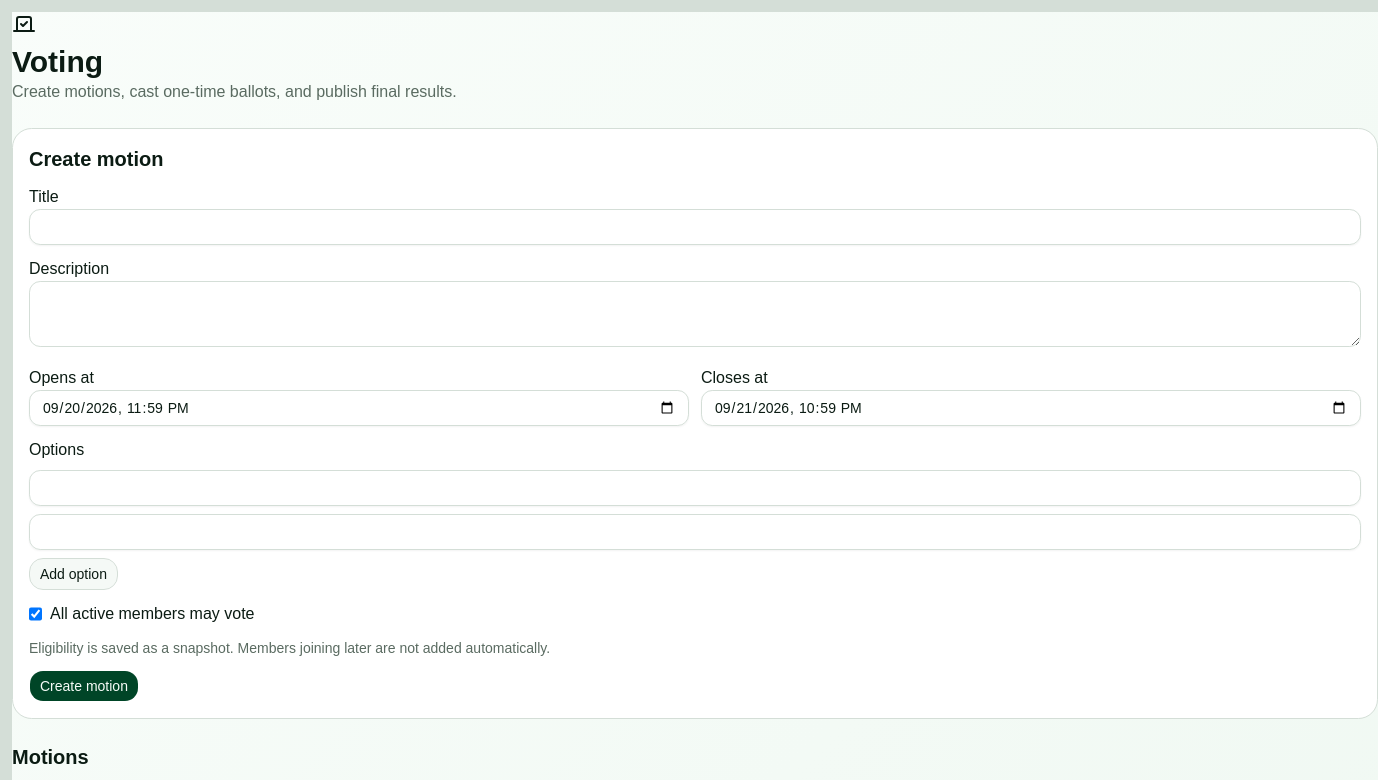
Test case: keeps entered data on a save failure
In the field labelled "Title": (695, 227) [29,209,1361,245], type "New motion"
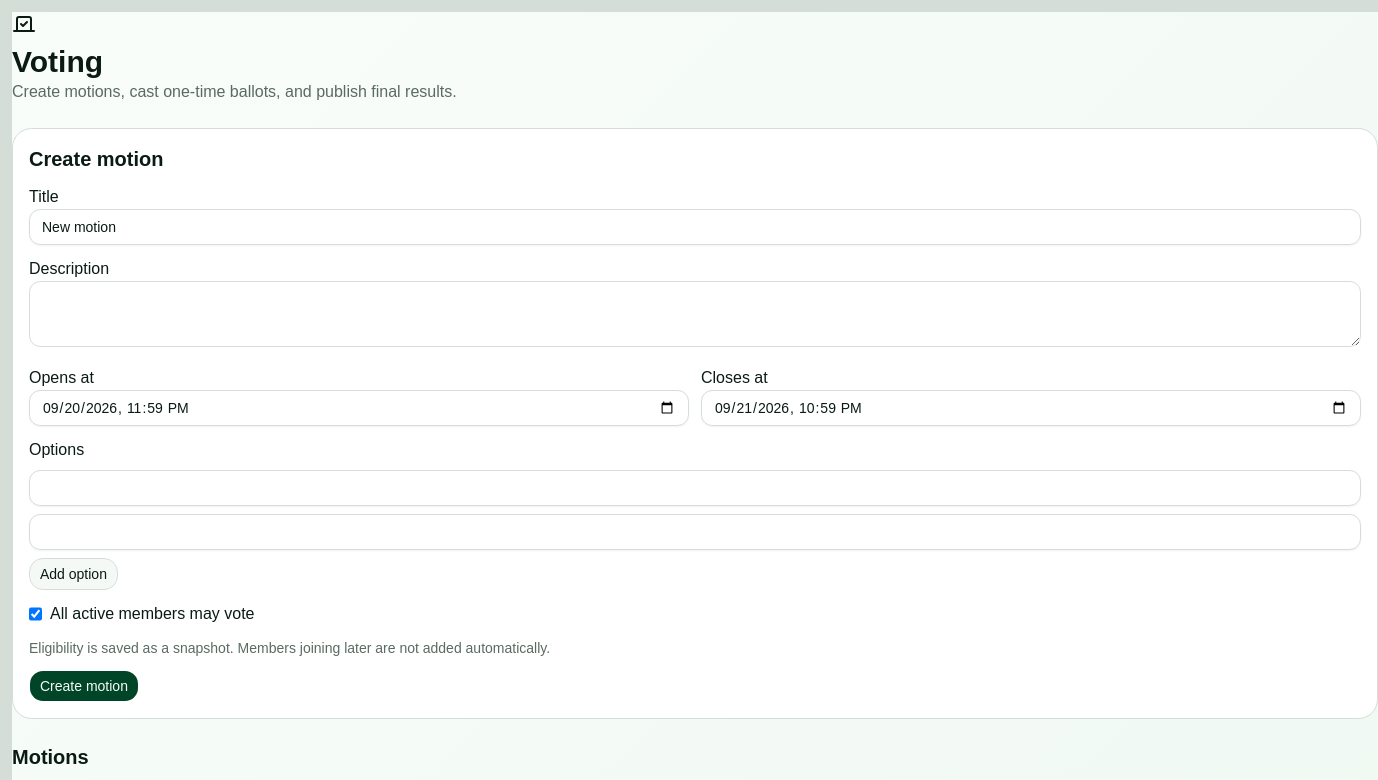
In the field named "Option 1": (695, 488) [29,470,1361,506], type "Approve"
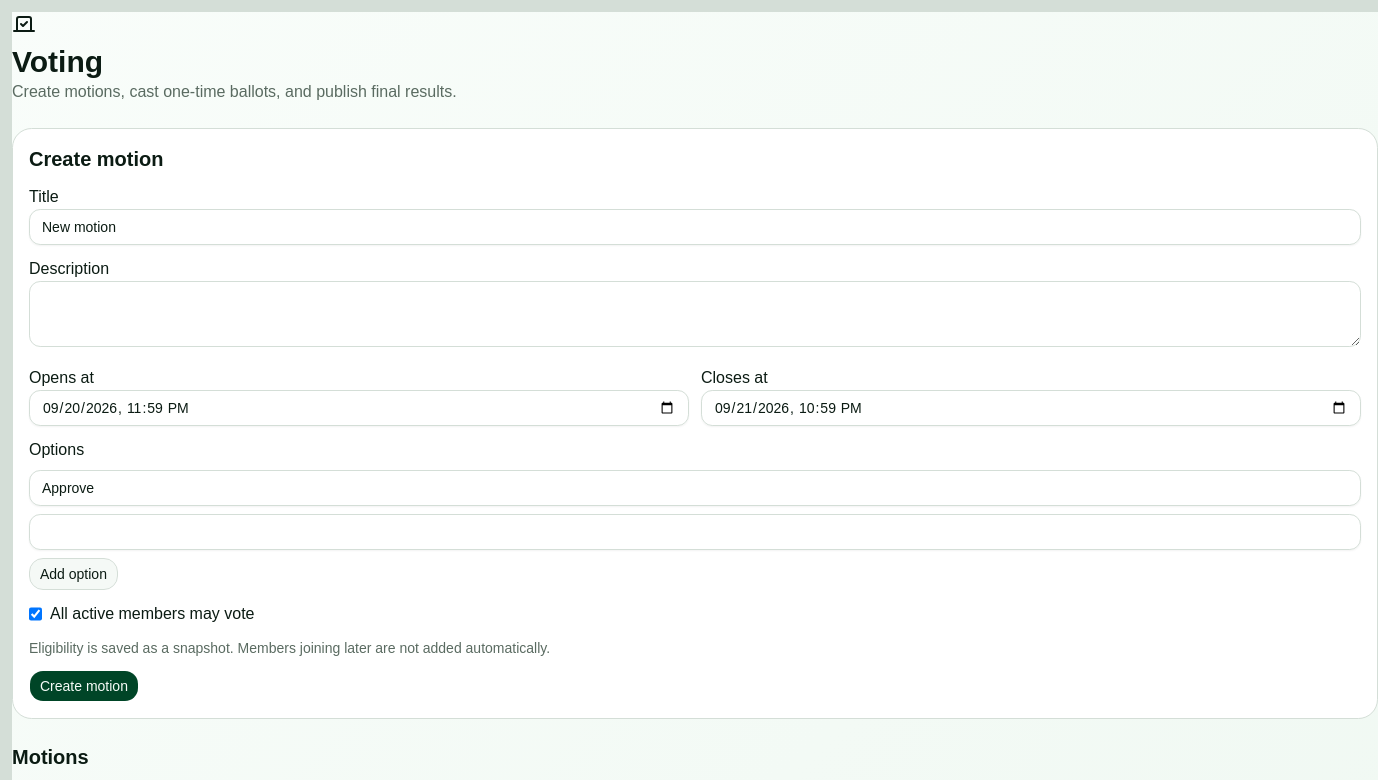
In the field named "Option 2": (695, 532) [29,514,1361,550], type "Reject"
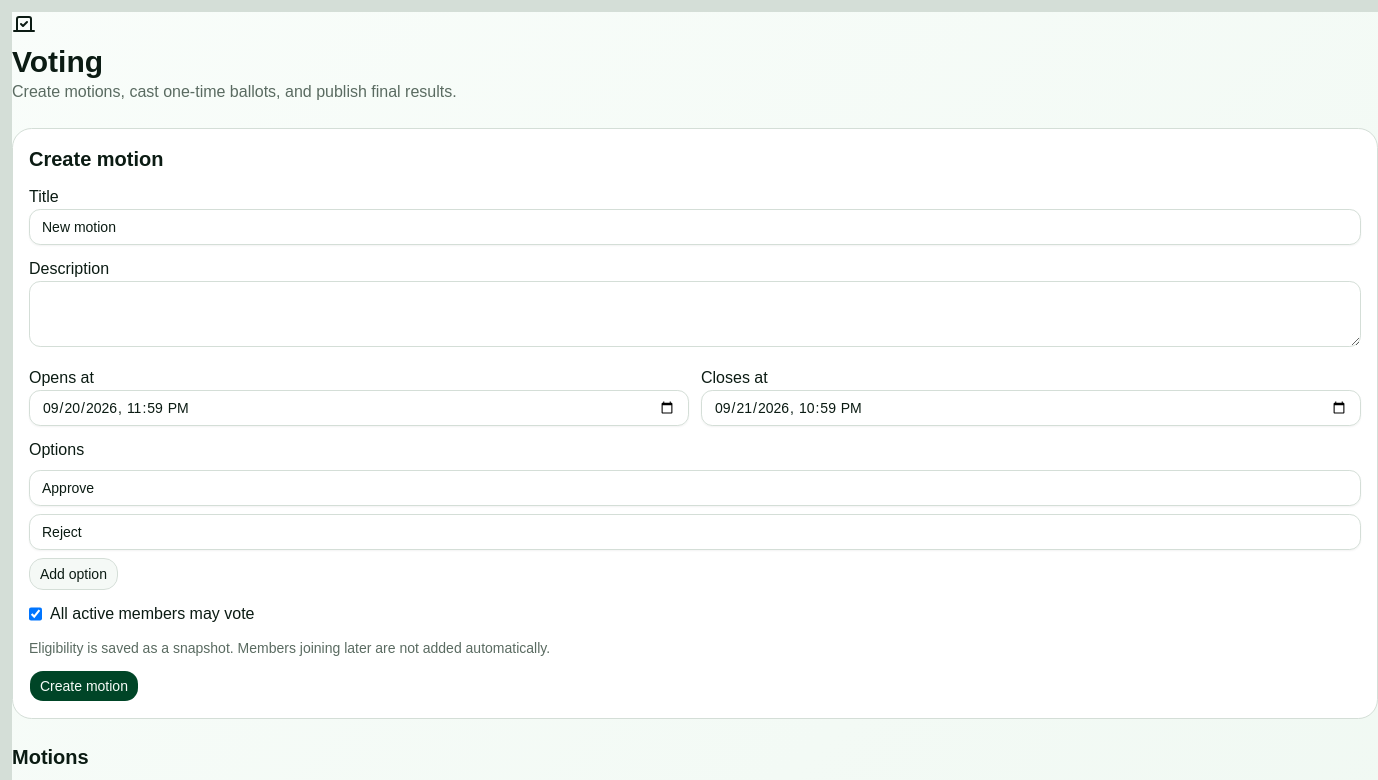
Click the button "Create motion": click(84, 686) [29,670,139,702]
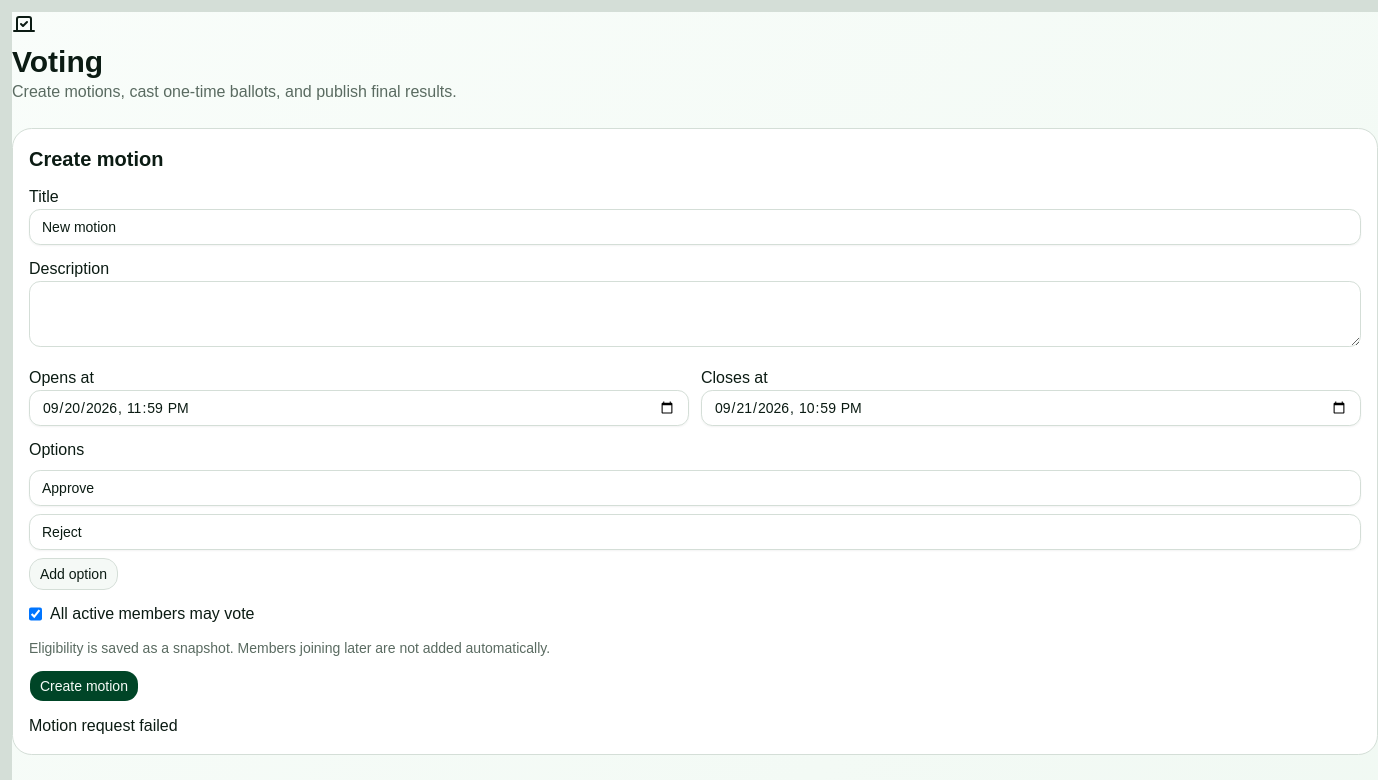
Check: the message reads "Motion request failed", box [29,717,178,734]
